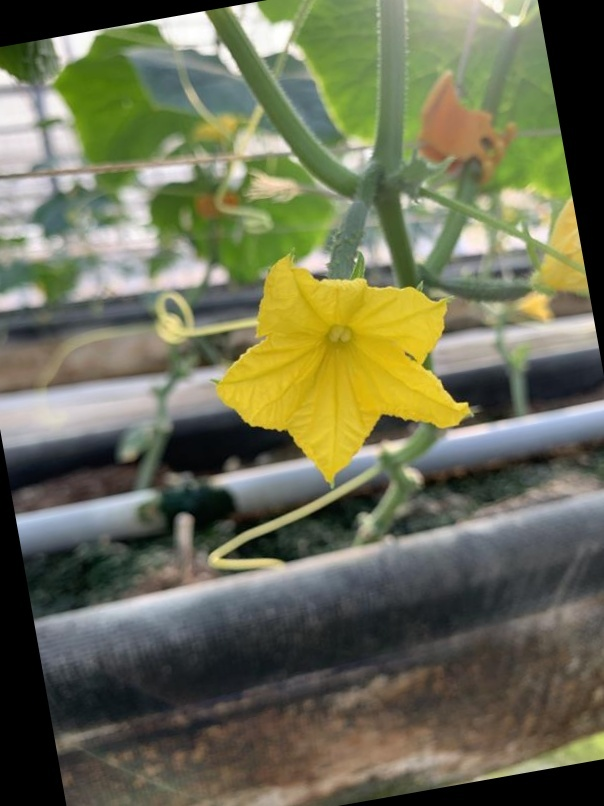flowering: (196, 186, 471, 506)
mature: (198, 184, 469, 558)
